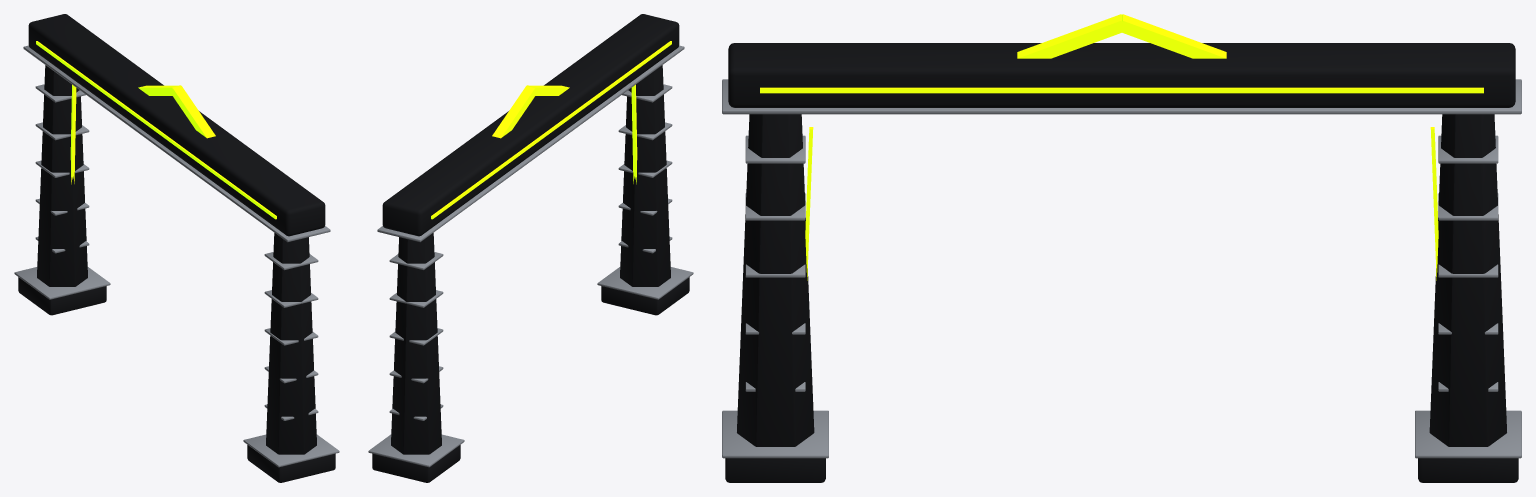
The model's file is gate.glb.
3 renders of one model, left to right at view 1: azimuth 30°, elevation 25°; view 2: azimuth 150°, elevation 25°; view 3: azimuth 270°, elevation 25°, orthographic. The views are drawn at different scales.
Visible parts, largest first — view 1: gate; view 2: gate; view 3: gate.
Part boxes in pixels (x1=…): gate: x1=14, y1=14, x2=339, y2=482; gate: x1=368, y1=14, x2=693, y2=482; gate: x1=722, y1=14, x2=1521, y2=482.
Size of the model in its own units: 3.4 by 15.63 by 25.4.
